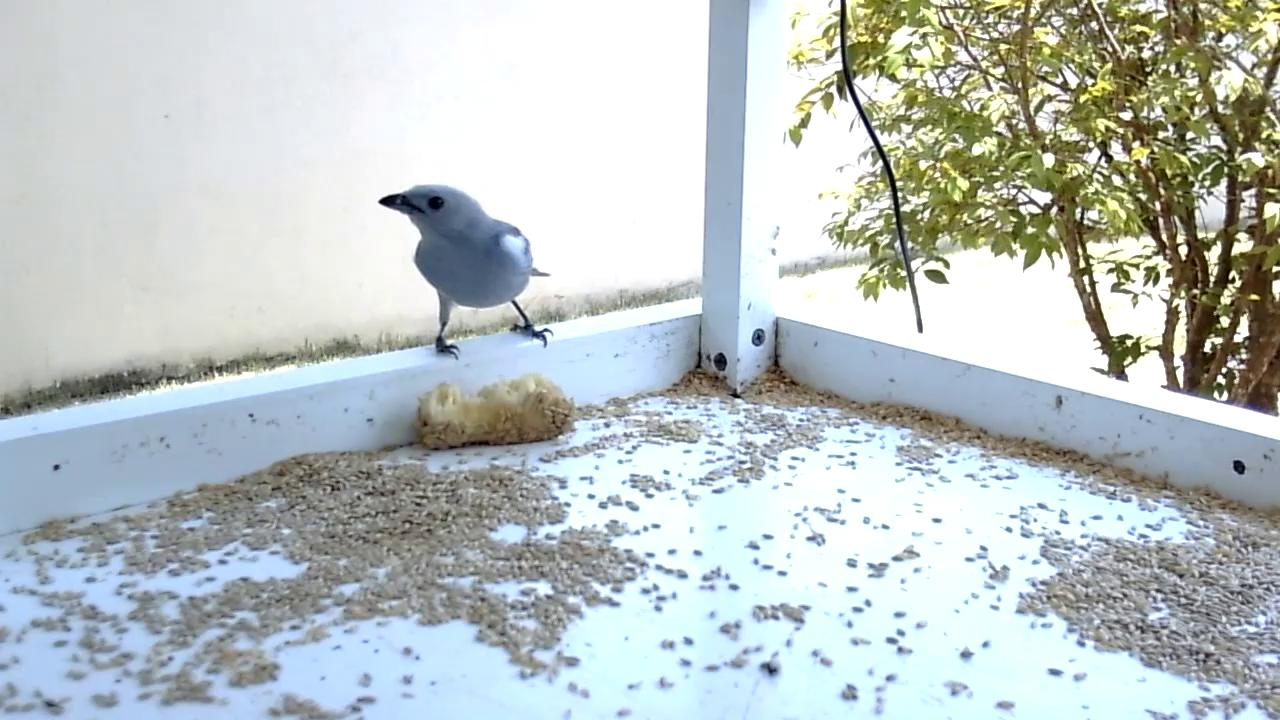sanhaco_da_amazonia: (377, 183, 555, 362)
